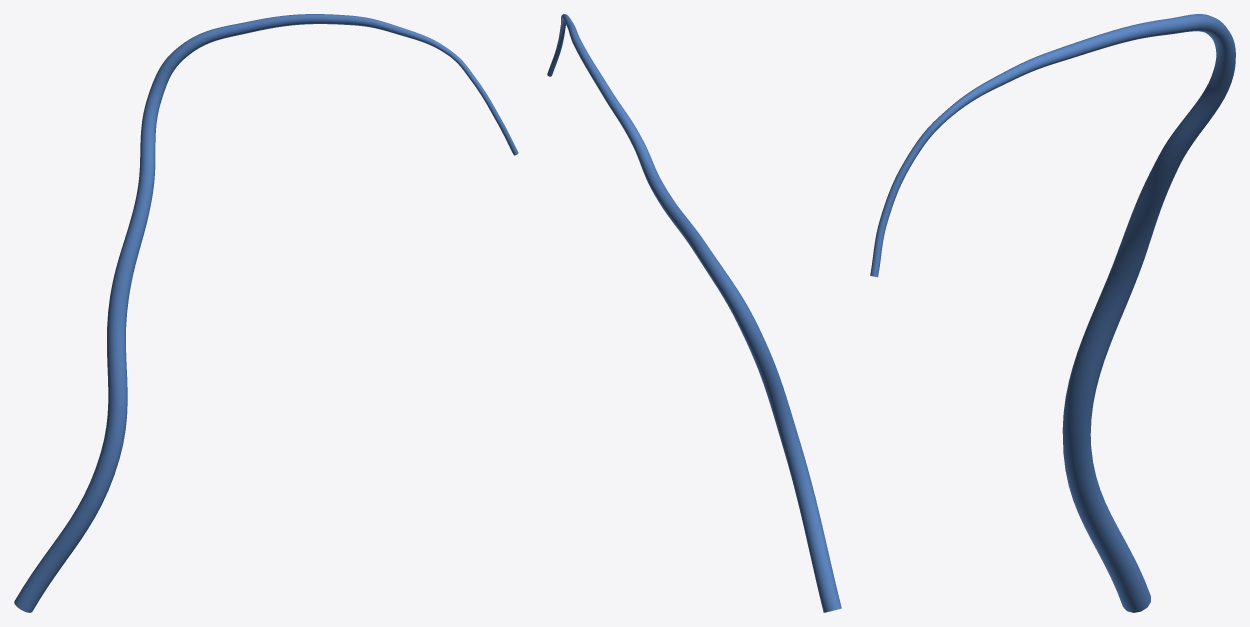
3 views of the same model, side by side, from view 1: azimuth 30°, elevation 25°; view 2: azimuth 150°, elevation 25°; view 3: azimuth 270°, elevation 25° (orthographic). The views are drawn at different scales.
Visible parts, largest first — view 1: 左侧旋股内侧静脉; view 2: 左侧旋股内侧静脉; view 3: 左侧旋股内侧静脉.
Boxes of the visible parts, bbox=[...] form: 左侧旋股内侧静脉: bbox=[14, 14, 518, 612]; 左侧旋股内侧静脉: bbox=[547, 14, 841, 612]; 左侧旋股内侧静脉: bbox=[870, 14, 1235, 612].
Bounding box in the file's own units: 0.0873 × 0.1092 × 0.0467.
